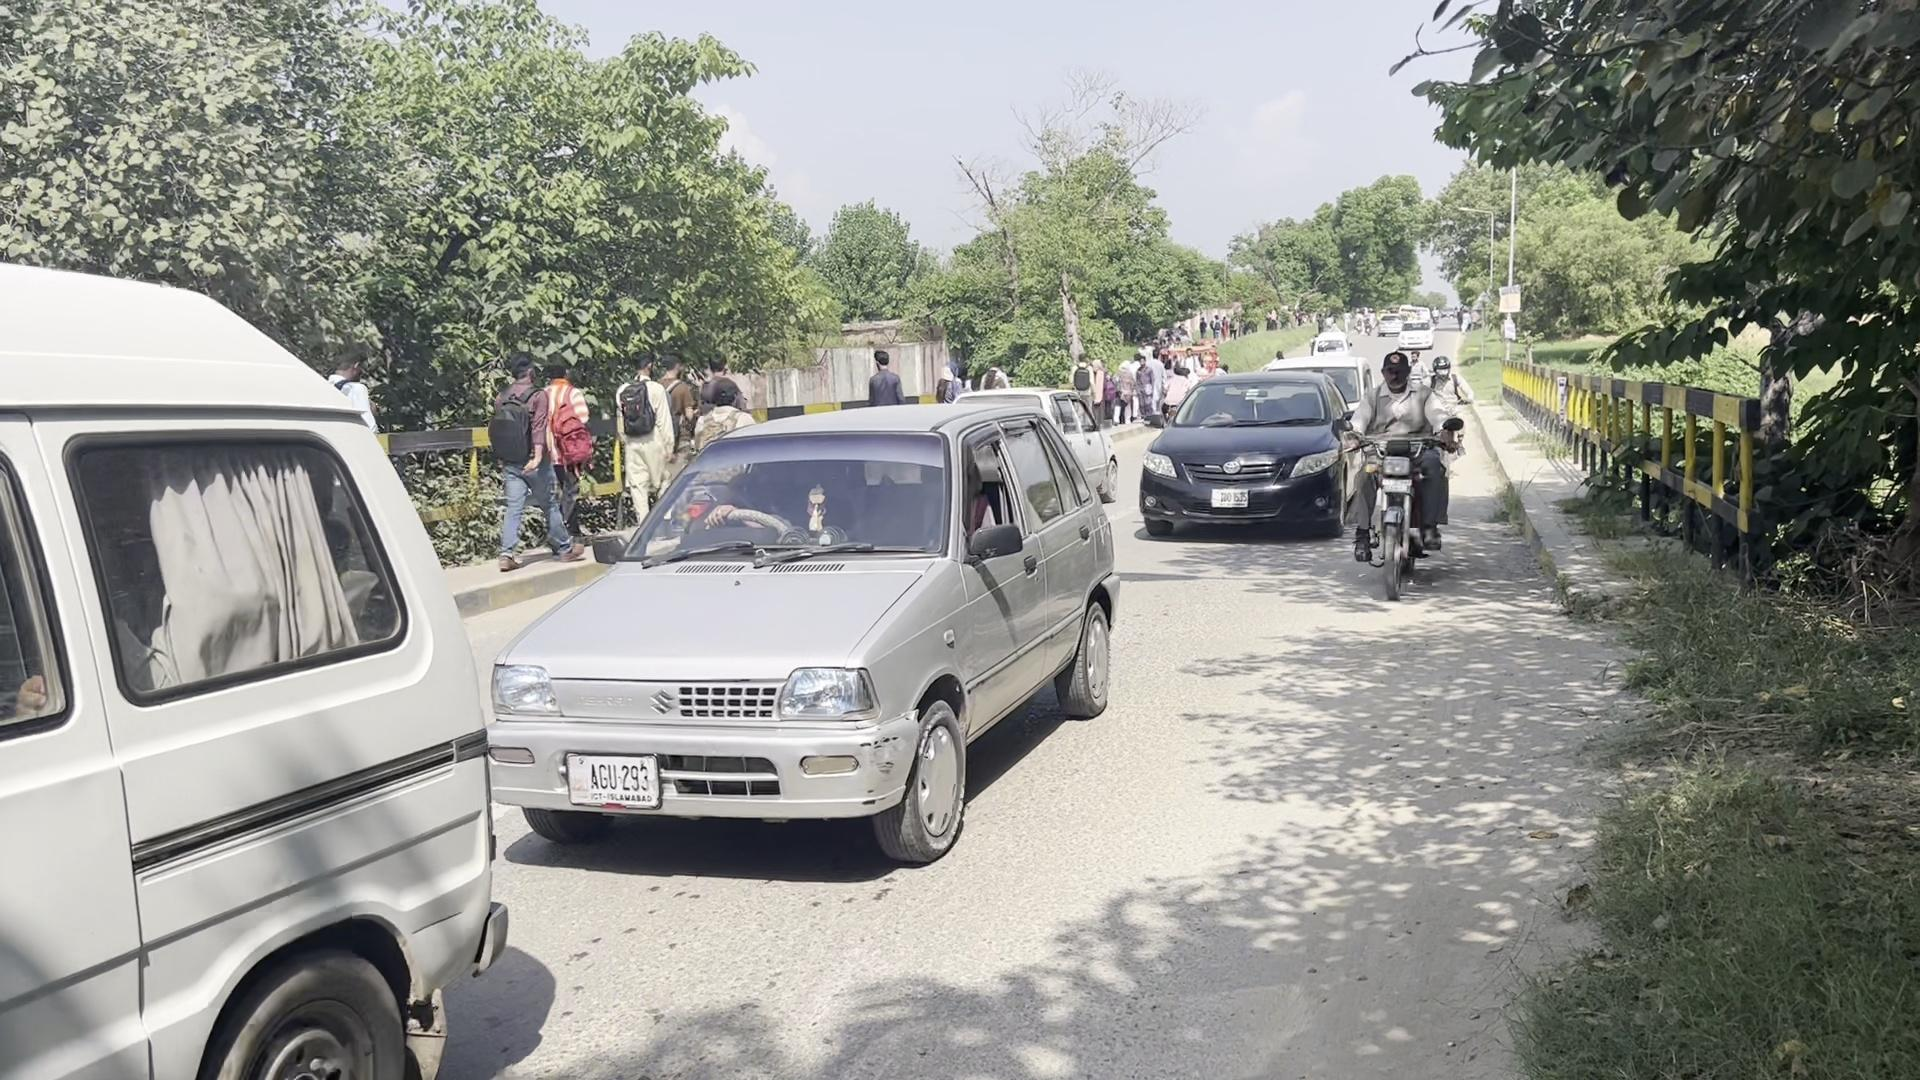windshield: (624, 427, 957, 567), (1160, 372, 1336, 435)
